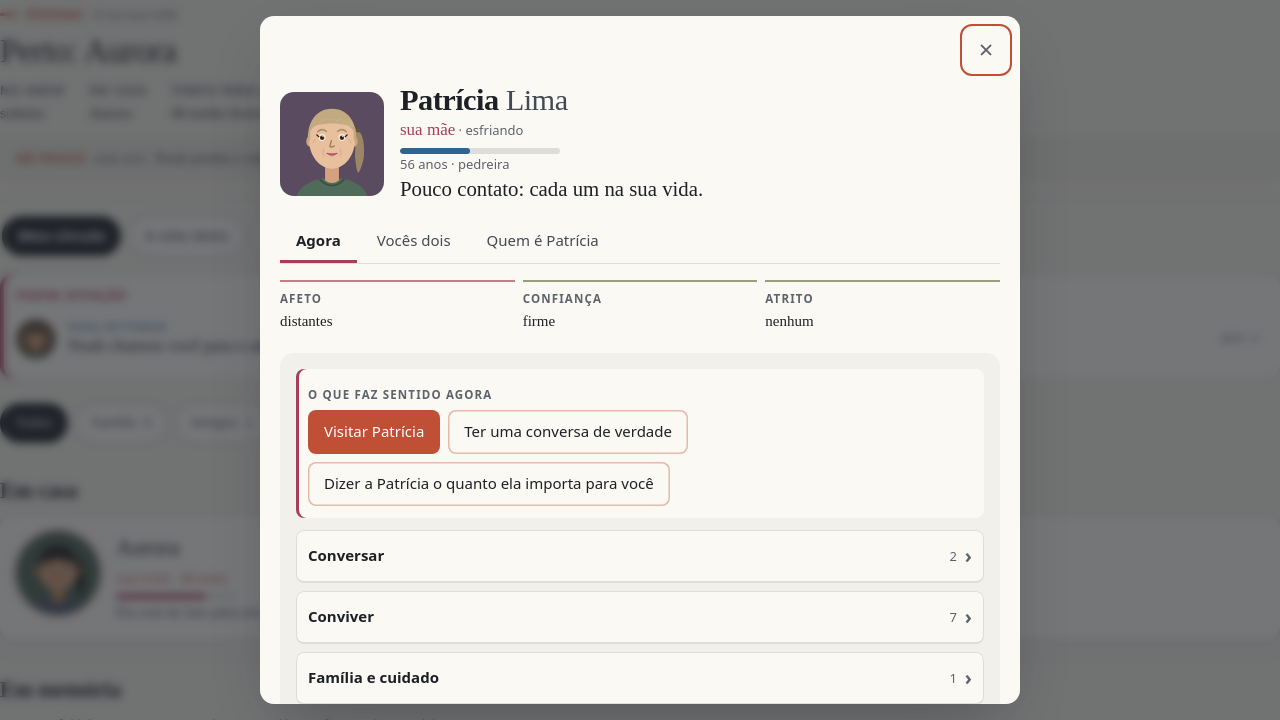
relação: agir → o vínculo muda → a ficha mostra o laço do motor › o laço em palavras é o do vínculo; depois de agir, muda junto (e a história ganha o passo)
Expected: the text "distantes" is shown, [280, 313, 332, 329]
Expected: the text "firme" is shown, [523, 313, 555, 329]
Click the button "Visitar Patrícia". click: point(374, 432)
box: [308, 410, 440, 454]
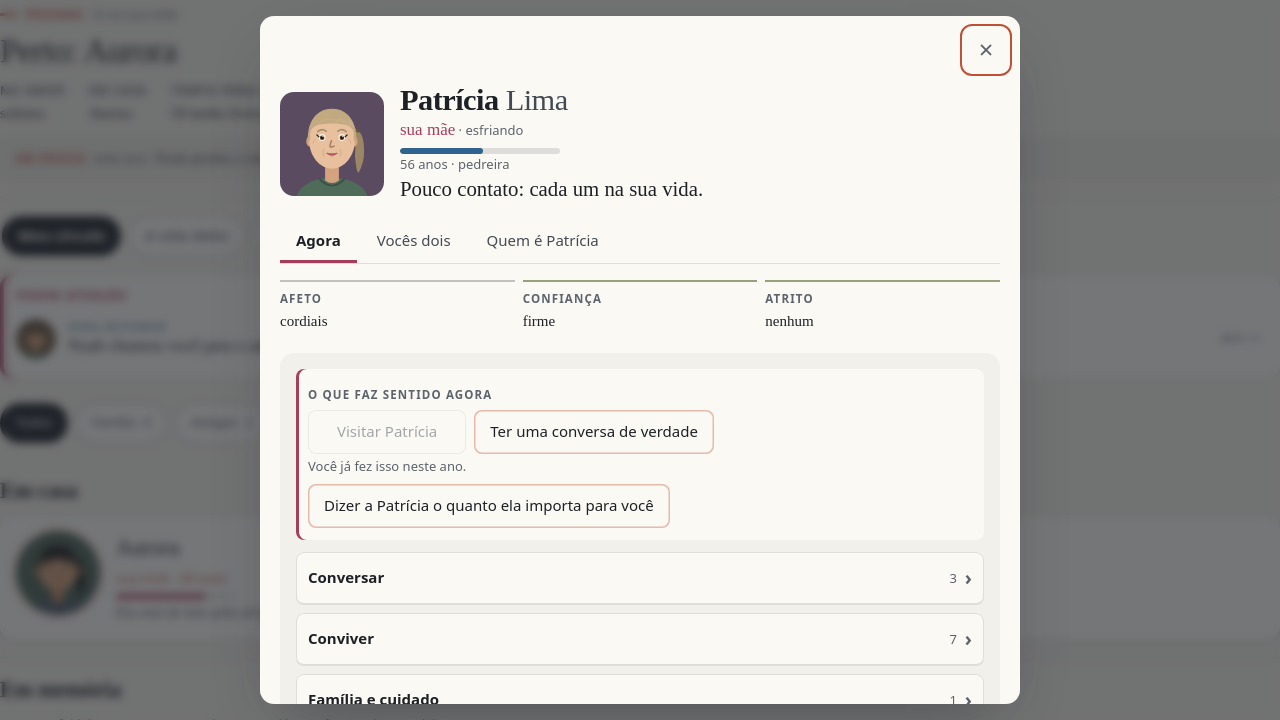
Result: the list named "Como está o laço" reads "Afeto cordiais Confiança firme Atrito nenhum" at [280, 280, 1000, 333]
